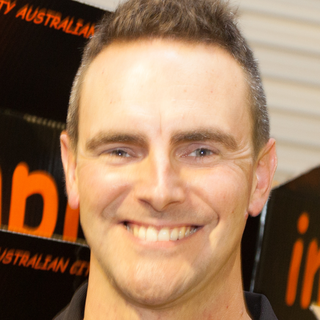eye: (180, 141, 228, 164), (97, 141, 144, 164)
